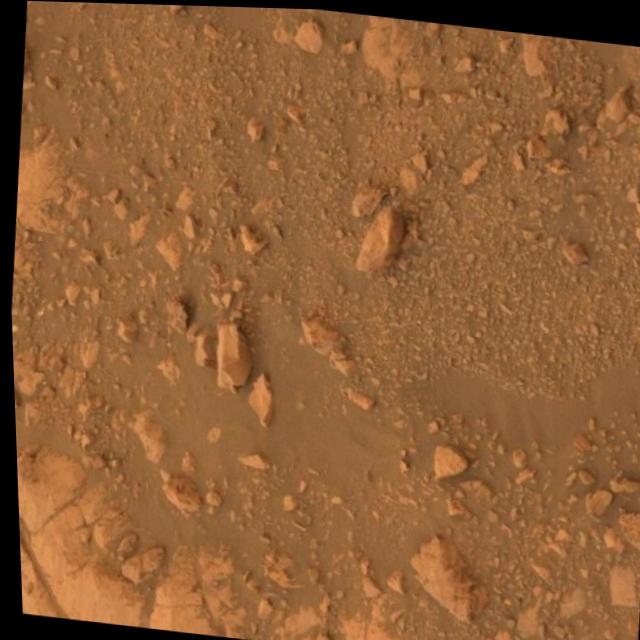mars-rocks: (407, 532, 484, 618), (354, 202, 404, 267), (215, 320, 249, 390)
